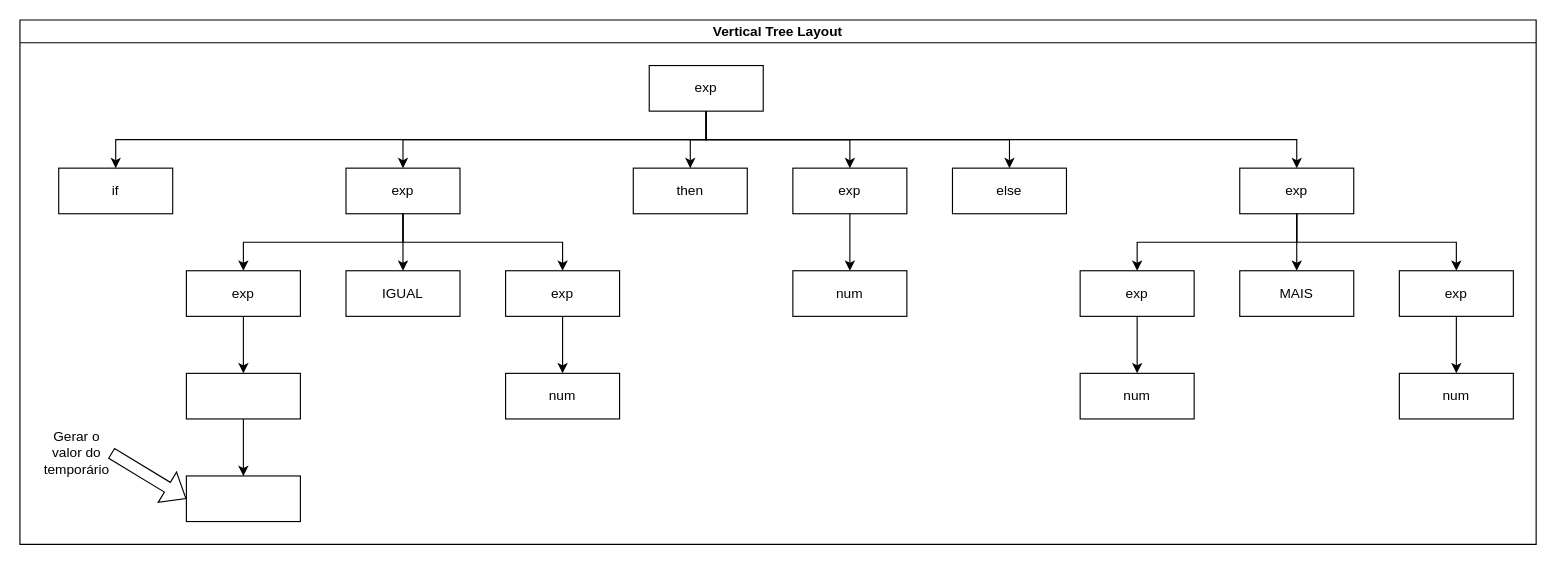
Image size: 1556x564. Some labels were removed from this diagram. The centre of each missing label's shape, as x and y in pixels:
"id" belongs at pixel 242 498.
"type_id" belongs at pixel 242 395.
